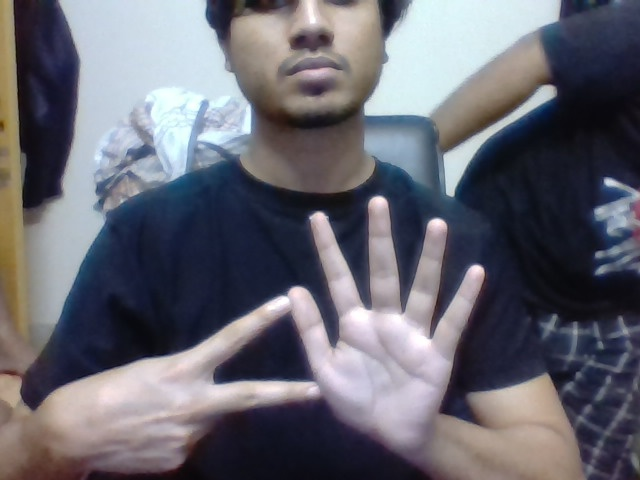N: (201, 291, 289, 416)
